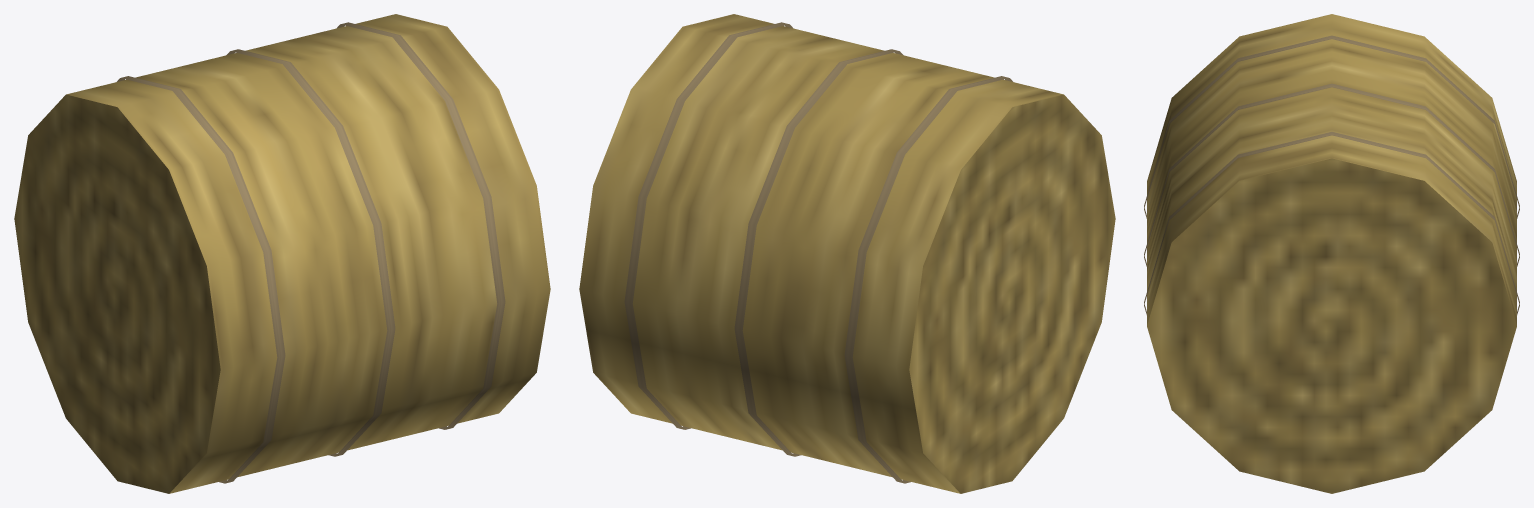
File: hay_bale_round.obj
The picture shows the model from 3 angles, left to right: view 1: azimuth 30°, elevation 25°; view 2: azimuth 150°, elevation 25°; view 3: azimuth 270°, elevation 25°; orthographic projection. The views are drawn at different scales.
Parts seen in each view (by area): view 1: hay_bale_round; view 2: hay_bale_round; view 3: hay_bale_round.
Part boxes in pixels (<box>): hay_bale_round: <box>14,14,550,493</box>; hay_bale_round: <box>579,14,1115,493</box>; hay_bale_round: <box>1144,14,1519,493</box>.
Bounding box in the file's own units: 1.2 × 1.32 × 1.32.
1 material, 1 textured.
